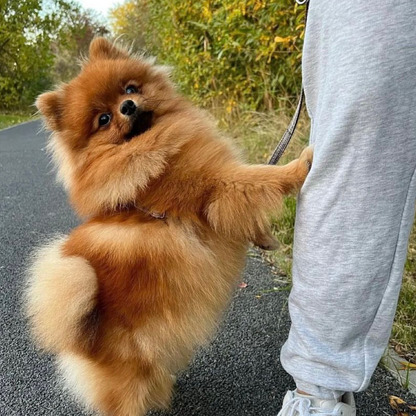Pomeranian: (28, 29, 303, 395)
